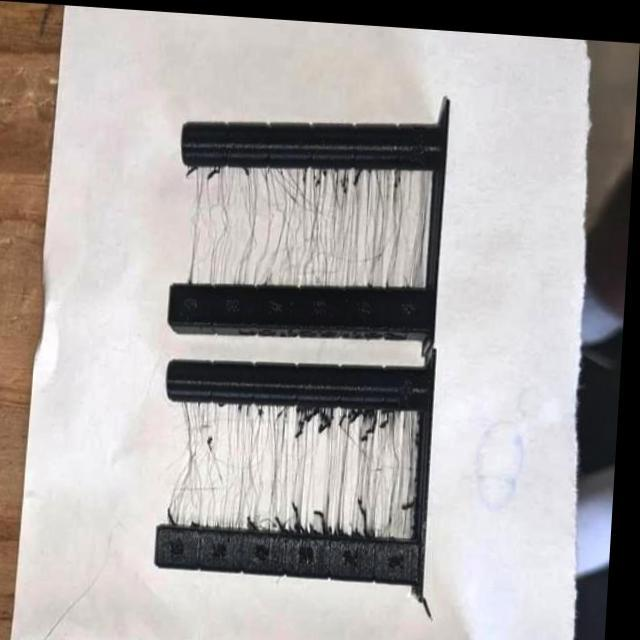stringing: (256, 396, 340, 533), (342, 400, 418, 538), (186, 393, 258, 528), (243, 162, 308, 281), (309, 158, 374, 276), (190, 170, 243, 284), (366, 165, 413, 281)
